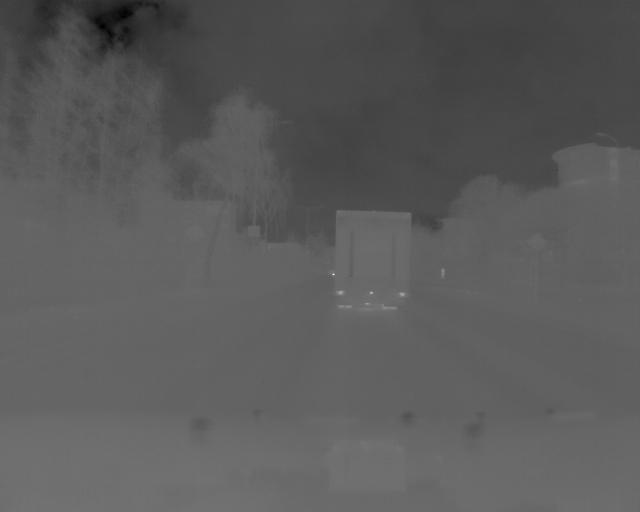car: (330, 207, 416, 316)
